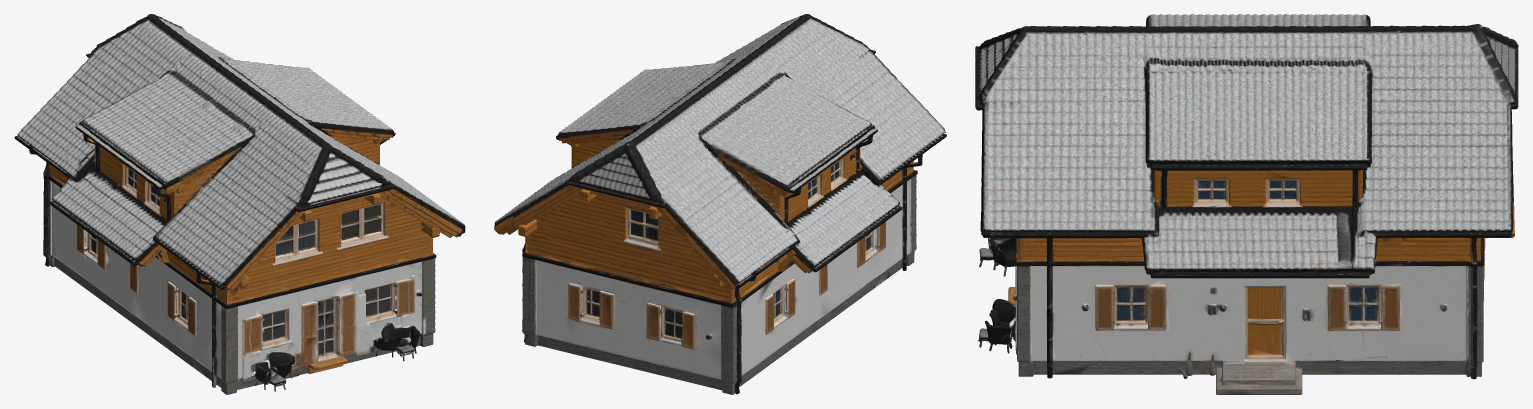
The model's file is chalet.glb.
The picture shows the model from 3 angles, left to right: view 1: azimuth 30°, elevation 25°; view 2: azimuth 150°, elevation 25°; view 3: azimuth 270°, elevation 25°; orthographic projection. The views are drawn at different scales.
Size of the model in its own units: 1.08 by 0.8075 by 1.38.
Materials: 1 (1 with a texture image).
